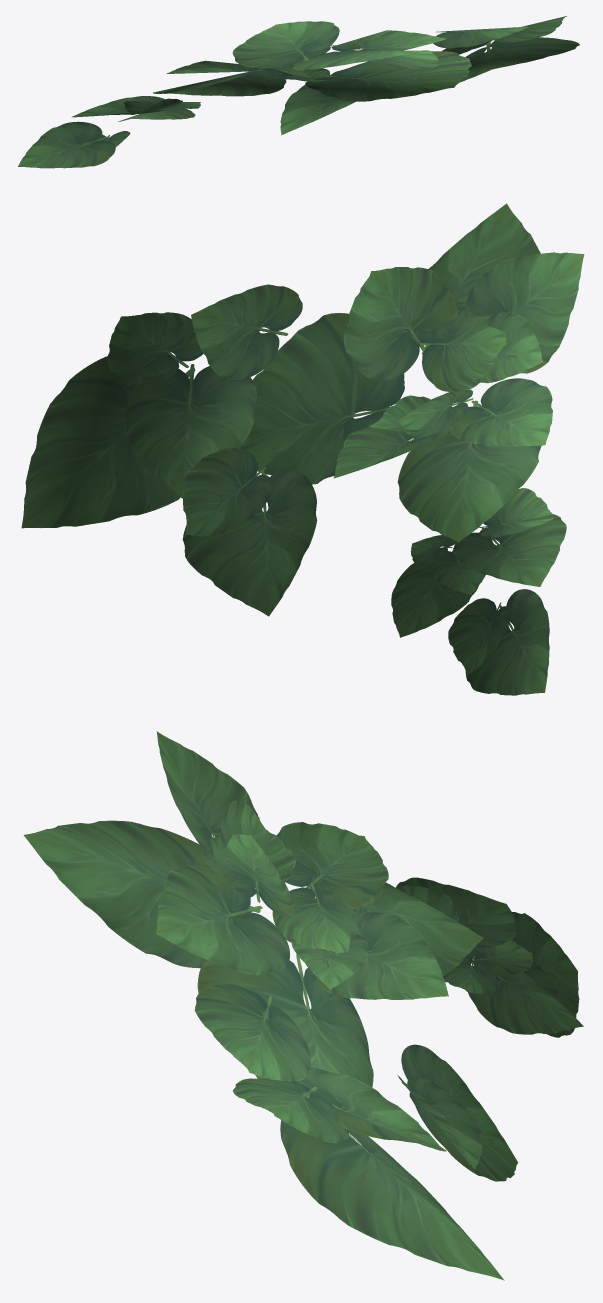
The model's file is SM_EastLands_BrokenCarriage_Leaves.fbx.
3 views of the same model, one above another, from view 1: azimuth 30°, elevation 25°; view 2: azimuth 150°, elevation 25°; view 3: azimuth 270°, elevation 25° (orthographic). The views are drawn at different scales.
Visible parts, largest first — view 1: SM_EastLands_BrokenCarriage_Leaves_LOD0; view 2: SM_EastLands_BrokenCarriage_Leaves_LOD0; view 3: SM_EastLands_BrokenCarriage_Leaves_LOD0.
Part boxes in pixels (left/top/right/bottom): SM_EastLands_BrokenCarriage_Leaves_LOD0: left=18, top=16, right=579, bottom=168; SM_EastLands_BrokenCarriage_Leaves_LOD0: left=21, top=203, right=584, bottom=695; SM_EastLands_BrokenCarriage_Leaves_LOD0: left=23, top=731, right=583, bottom=1280.
Bounding box in the file's own units: 110 × 77.58 × 51.86.
